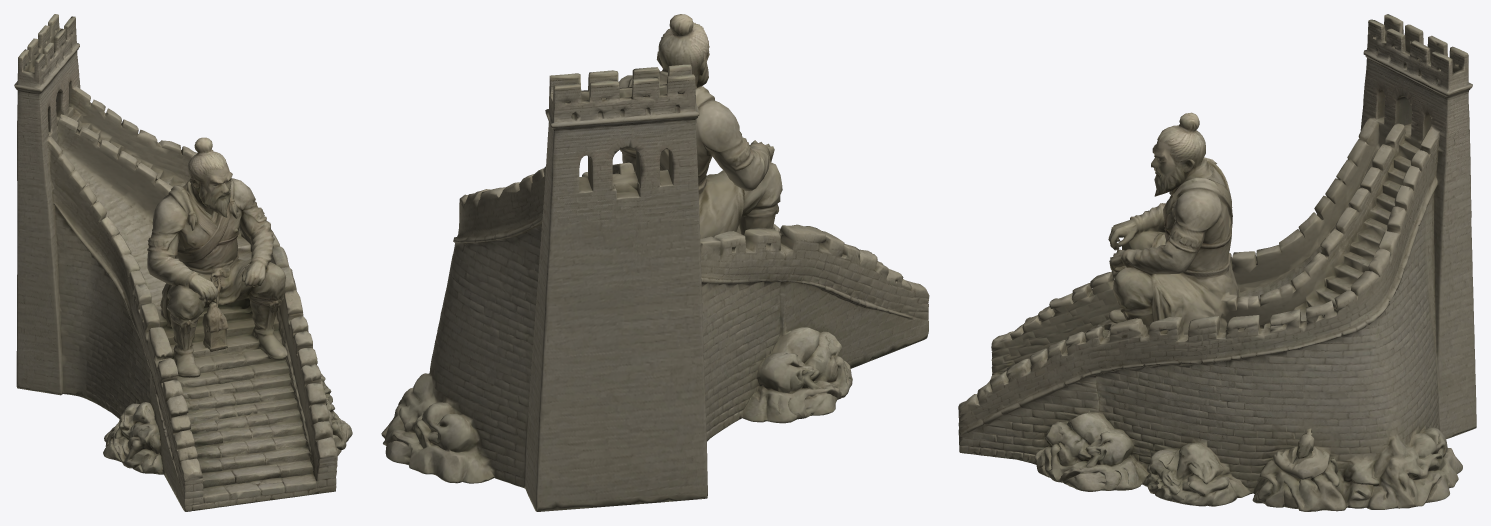
File: source.glb
The picture shows the model from 3 angles, left to right: view 1: azimuth 30°, elevation 25°; view 2: azimuth 150°, elevation 25°; view 3: azimuth 270°, elevation 25°; orthographic projection. The views are drawn at different scales.
Visible parts, largest first — view 1: tripo_node_91b68dc1-db6a-4097-b248-3dda8140b85a; view 2: tripo_node_91b68dc1-db6a-4097-b248-3dda8140b85a; view 3: tripo_node_91b68dc1-db6a-4097-b248-3dda8140b85a.
Boxes of the visible parts, x1=… form: tripo_node_91b68dc1-db6a-4097-b248-3dda8140b85a: x1=14, y1=14, x2=352, y2=511; tripo_node_91b68dc1-db6a-4097-b248-3dda8140b85a: x1=381, y1=14, x2=929, y2=511; tripo_node_91b68dc1-db6a-4097-b248-3dda8140b85a: x1=958, y1=14, x2=1476, y2=511.
Size of the model in its own units: 0.6062 by 0.7697 by 0.9807.
1 material, 1 textured.
